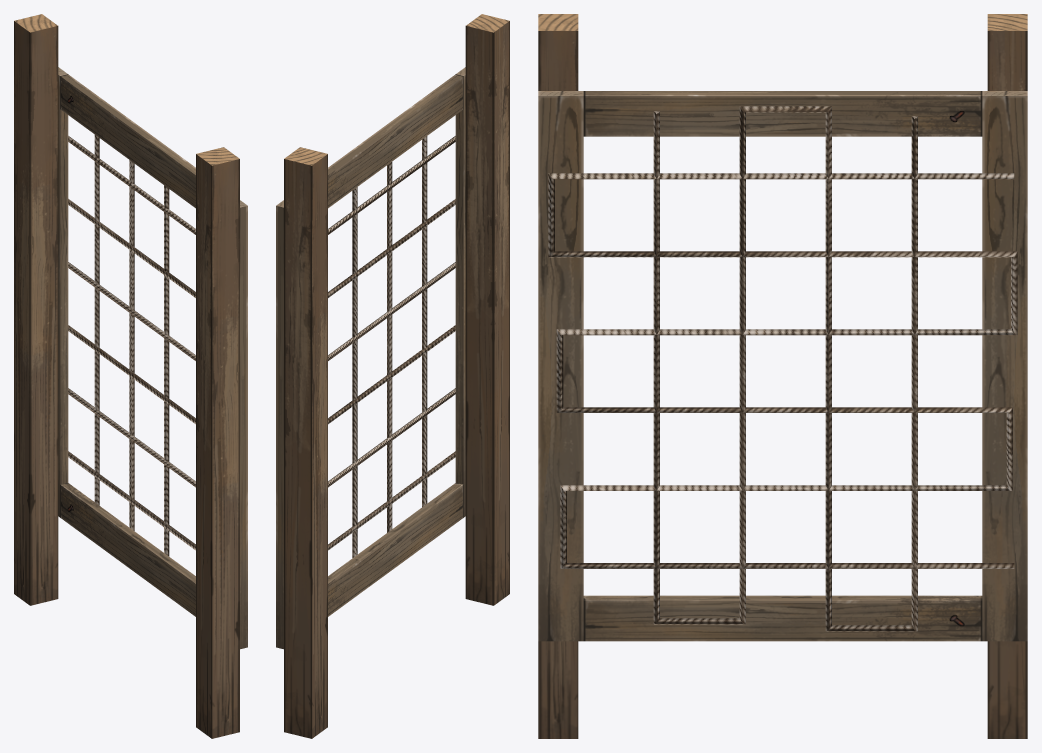
The model's file is trellis07.fbx.
3 renders of one model, left to right at view 1: azimuth 30°, elevation 25°; view 2: azimuth 150°, elevation 25°; view 3: azimuth 270°, elevation 25°, orthographic. The views are drawn at different scales.
Parts seen in each view (by area): view 1: trellis07; view 2: trellis07; view 3: trellis07.
Boxes of the visible parts, box(x1,y1,x2,y2) form: trellis07: box(14, 14, 247, 738); trellis07: box(276, 14, 509, 738); trellis07: box(538, 14, 1027, 738).
Size of the model in its own units: 15.21 by 208 by 130.
